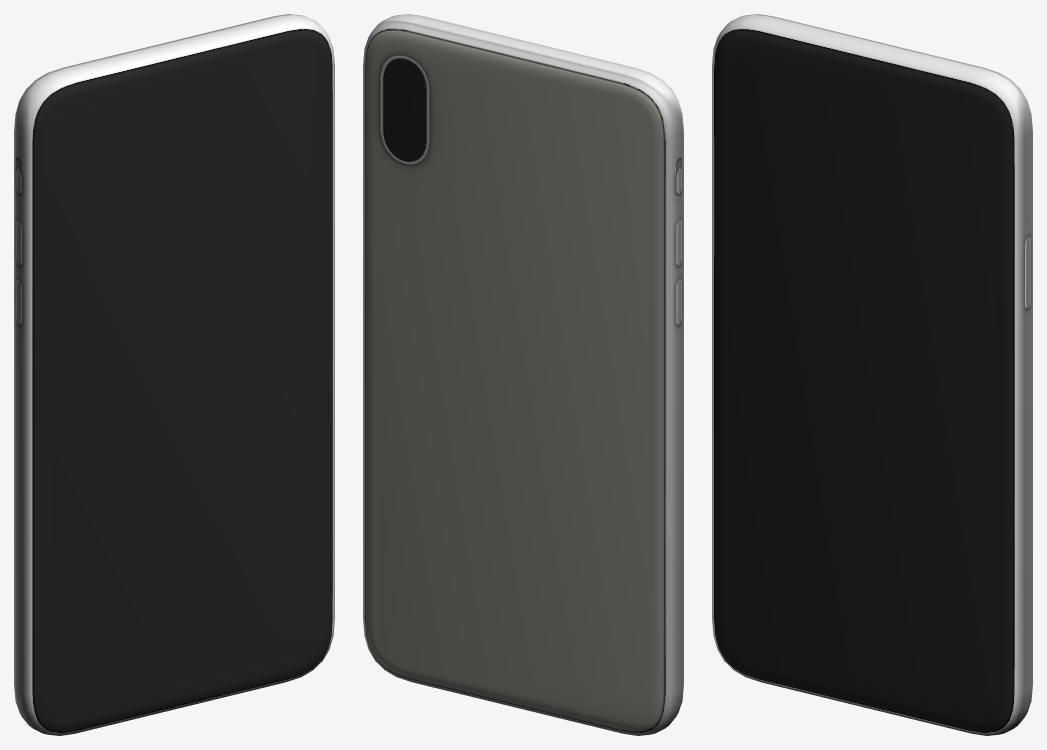
File: Phone.dae
3 views of the same model, side by side, from view 1: azimuth 30°, elevation 25°; view 2: azimuth 150°, elevation 25°; view 3: azimuth 330°, elevation 25° (orthographic).
Parts seen in each view (by area): view 1: Phone; view 2: Phone; view 3: Phone.
Part boxes in pixels (<box>): Phone: <box>14,14,334,735</box>; Phone: <box>363,14,683,735</box>; Phone: <box>712,14,1032,735</box>.
Size of the model in its own units: 70.99 by 7.75 by 144.
